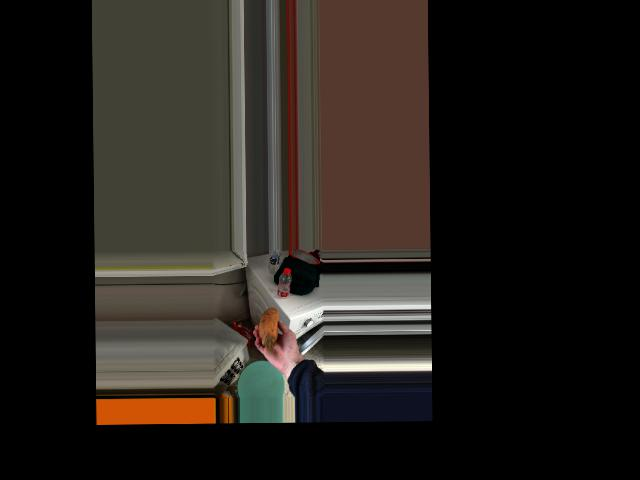sweet_potato: (260, 298, 278, 345)
